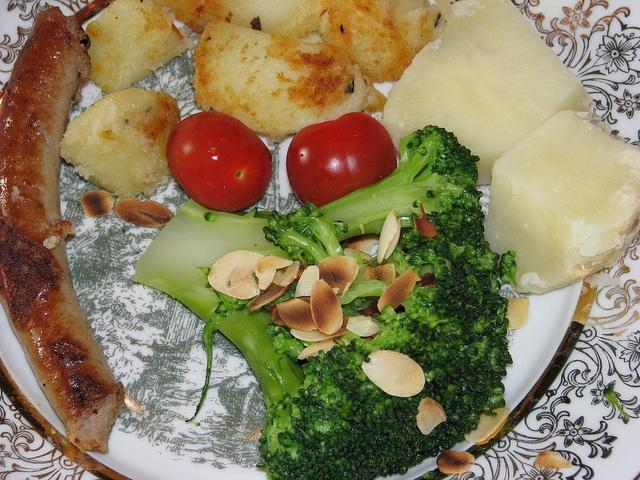almond: (208, 250, 276, 298), (362, 350, 425, 397), (376, 266, 422, 312), (310, 279, 344, 335), (114, 198, 173, 227), (464, 408, 510, 444), (318, 255, 360, 294), (290, 316, 351, 342), (275, 298, 317, 332), (297, 336, 351, 360), (416, 396, 447, 435), (377, 210, 399, 264), (248, 284, 290, 310), (80, 190, 114, 217), (436, 450, 474, 474), (294, 265, 320, 298), (413, 204, 438, 237), (346, 314, 380, 336), (349, 234, 380, 258), (506, 298, 528, 330), (384, 218, 401, 259), (534, 450, 572, 468), (274, 262, 300, 286), (255, 256, 292, 272), (372, 262, 396, 284), (284, 264, 308, 282)
broccoli: (132, 124, 514, 478)
potato: (382, 1, 594, 184), (484, 110, 640, 294), (190, 18, 388, 146), (61, 89, 181, 197), (86, 0, 196, 93), (320, 1, 412, 82), (158, 2, 334, 38)
tomato: (166, 111, 272, 212), (287, 111, 397, 207)
